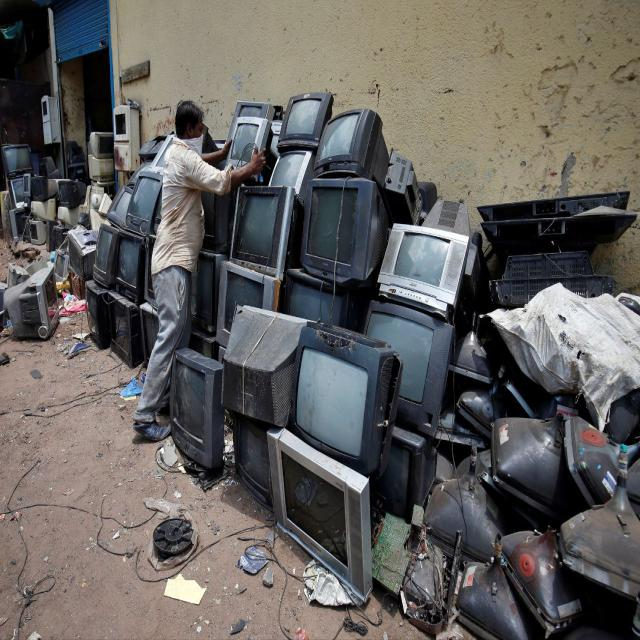E-waste: (228, 86, 640, 640), (0, 82, 152, 346)
